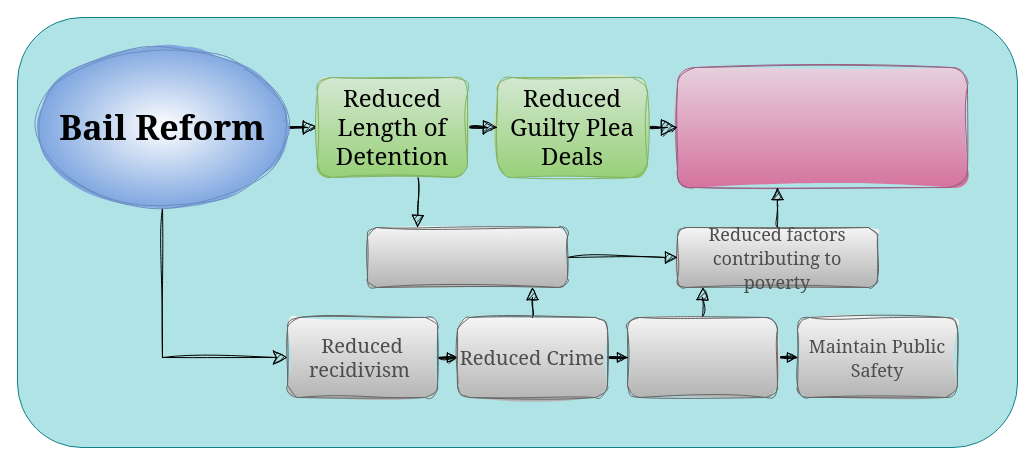
This 1035x465 diagram has some shape labels left out. The centre of each missing label's shape, as x and y in pixels:
Increased equality in the justice system: point (822, 127)
Reduced Harm: point (702, 357)
Reduced negative social and economic impact: point (467, 257)
